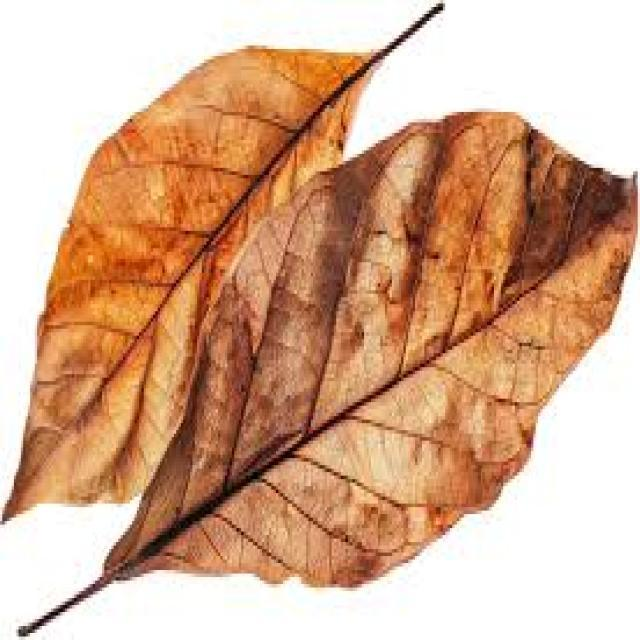leaf: (3, 5, 637, 633)
